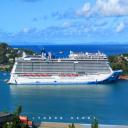cruises: (8, 46, 125, 86)
